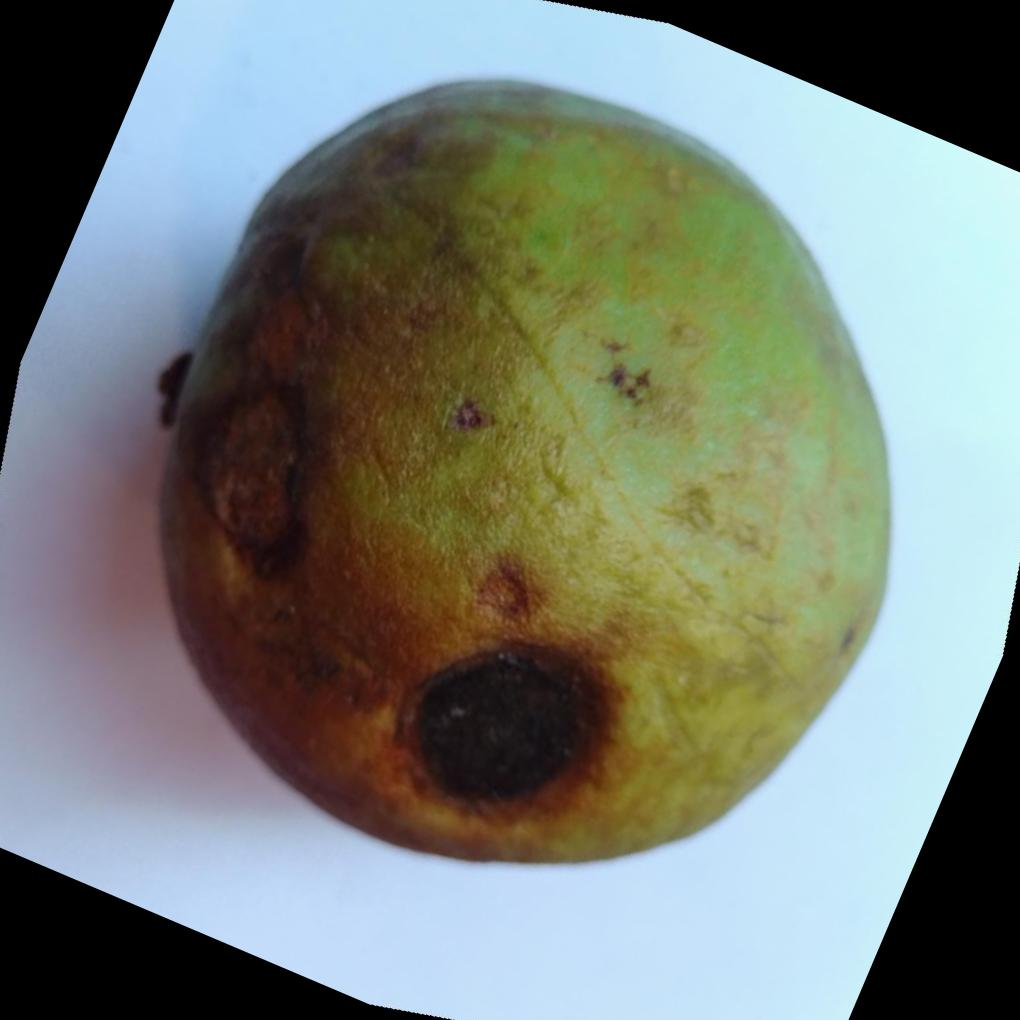FreshOrange: (151, 76, 890, 865)
